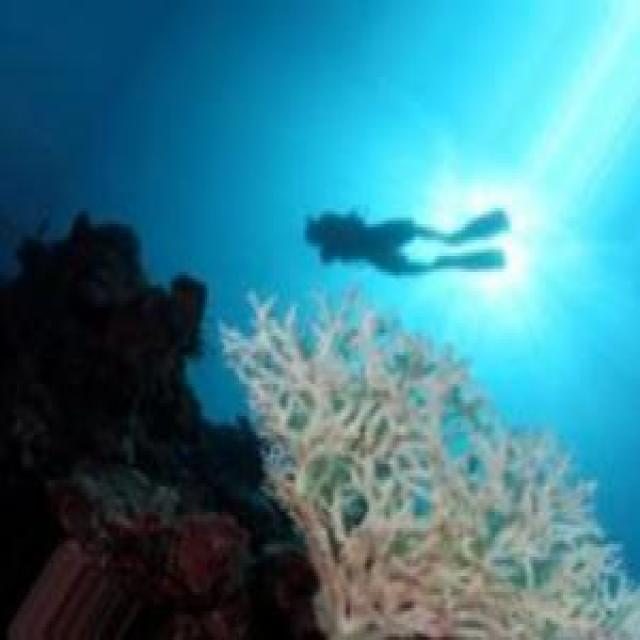Bleached: (223, 295, 639, 638)
